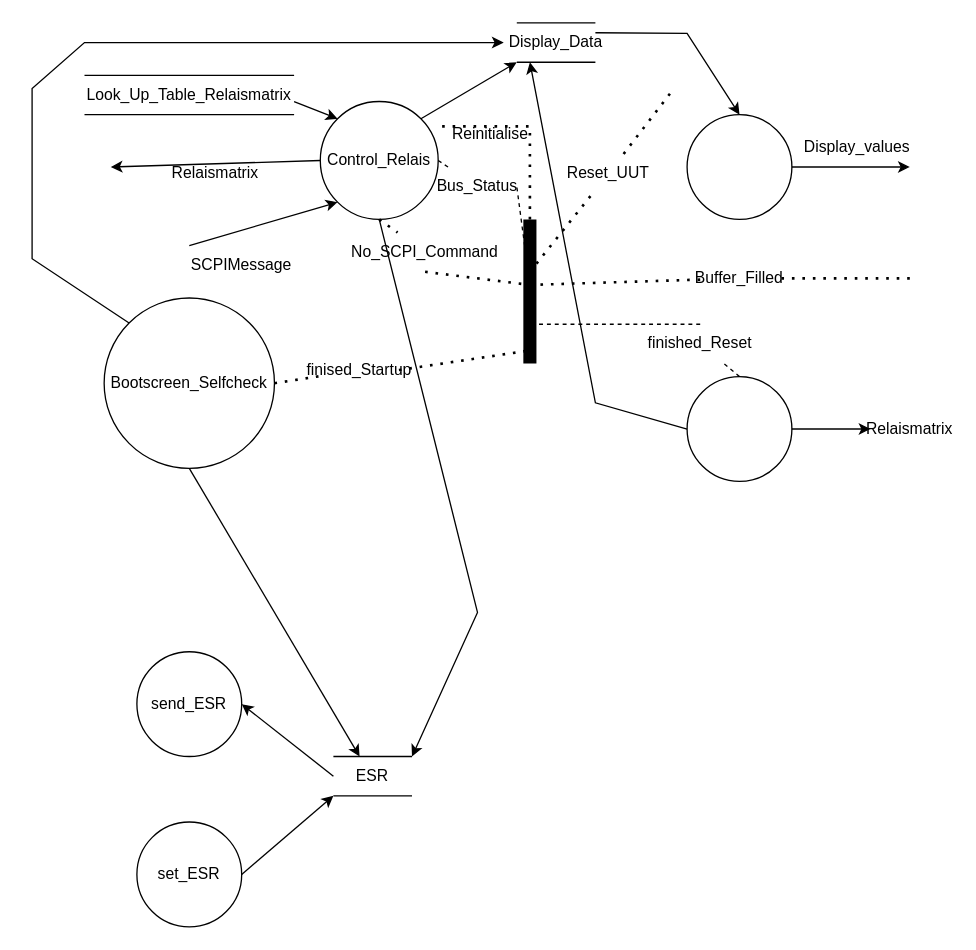
The diagram is 976 pixels wide and 950 high, and some of its shapes have lost their labels. Here are the shapes that lost their labels. From the top down, the centre of each, then its label:
At pixel 739 166: "Show_Values".
At pixel 739 428: "Reset_UUT_ Timer".
